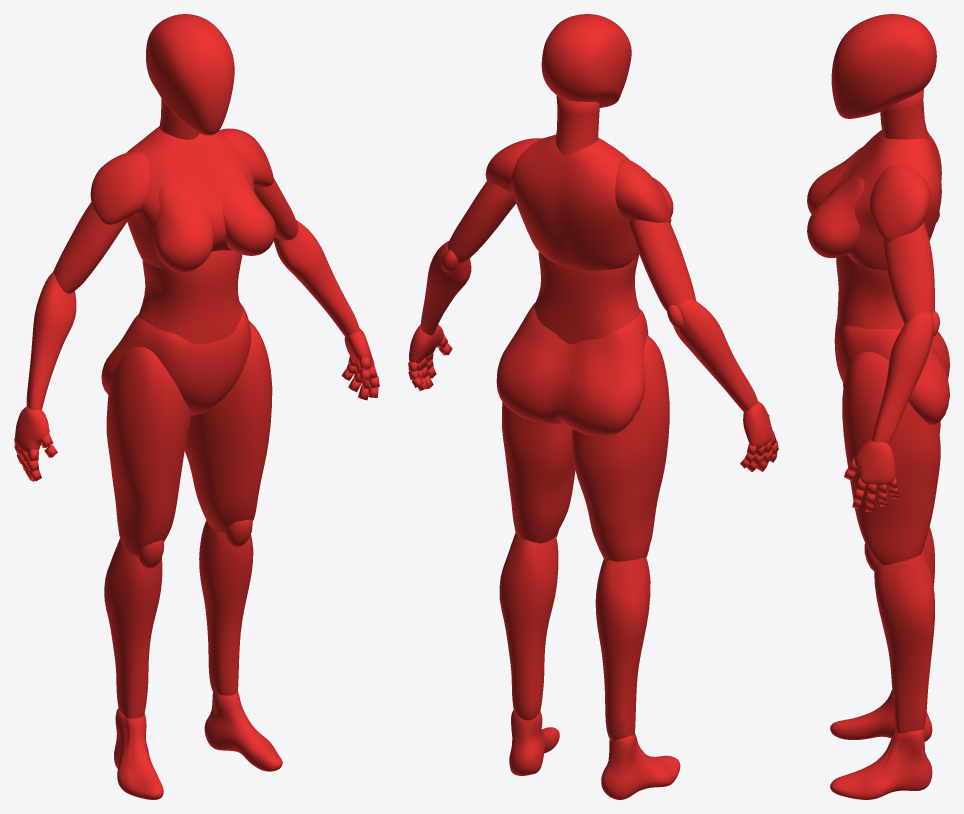
3 views of the same model, side by side, from view 1: azimuth 30°, elevation 25°; view 2: azimuth 150°, elevation 25°; view 3: azimuth 270°, elevation 25° (orthographic).
Visible parts, largest first — view 1: F_Upper_Leg_R, F_Upper_Leg_L, F_Head, F_Chest, F_Stomach, F_Hips, F_Lower_Leg_R, F_Lower_Leg_L, F_Breast_R, F_Lower_Arm_R, F_Lower_Arm_L, F_Breast_L (+9 smaller); view 2: F_Hips, F_Chest, F_Upper_Leg_R, F_Lower_Leg_L, F_Upper_Leg_L, F_Lower_Leg_R, F_Stomach, F_Head, F_Lower_Arm_R, F_Upper_Arm_R, F_Feet_R, F_Upper_Arm_L (+7 smaller); view 3: F_Upper_Leg_L, F_Head, F_Lower_Leg_L, F_Chest, F_Hips, F_Feet_L, F_Lower_Arm_L, F_Stomach, F_Upper_Arm_L, F_Shoulder_L, F_Breast_L, F_Feet_R (+4 smaller).
Boxes of the visible parts, x1=… form: F_Upper_Leg_R: x1=106, y1=346, x2=191, y2=555; F_Upper_Leg_L: x1=184, y1=321, x2=272, y2=532; F_Head: x1=146, y1=14, x2=234, y2=135; F_Chest: x1=126, y1=126, x2=254, y2=268; F_Stomach: x1=138, y1=250, x2=242, y2=344; F_Hips: x1=101, y1=303, x2=251, y2=415; F_Lower_Leg_R: x1=104, y1=539, x2=162, y2=718; F_Lower_Leg_L: x1=199, y1=520, x2=253, y2=695; F_Breast_R: x1=152, y1=183, x2=213, y2=272; F_Lower_Arm_R: x1=26, y1=272, x2=76, y2=409; F_Lower_Arm_L: x1=274, y1=220, x2=359, y2=337; F_Breast_L: x1=222, y1=166, x2=275, y2=255; F_Hips: x1=496, y1=302, x2=648, y2=436; F_Chest: x1=511, y1=134, x2=638, y2=270; F_Upper_Leg_R: x1=572, y1=335, x2=669, y2=561; F_Lower_Leg_L: x1=499, y1=532, x2=558, y2=720; F_Upper_Leg_L: x1=502, y1=402, x2=575, y2=543; F_Lower_Leg_R: x1=595, y1=556, x2=650, y2=740; F_Stomach: x1=534, y1=251, x2=639, y2=344; F_Head: x1=541, y1=14, x2=631, y2=107; F_Lower_Arm_R: x1=673, y1=299, x2=758, y2=411; F_Upper_Arm_R: x1=628, y1=219, x2=695, y2=311; F_Feet_R: x1=601, y1=733, x2=680, y2=799; F_Upper_Arm_L: x1=447, y1=181, x2=515, y2=263; F_Upper_Leg_L: x1=842, y1=351, x2=940, y2=564; F_Head: x1=831, y1=14, x2=936, y2=118; F_Lower_Leg_L: x1=874, y1=551, x2=934, y2=733; F_Chest: x1=828, y1=130, x2=941, y2=270; F_Hips: x1=834, y1=319, x2=949, y2=424; F_Feet_L: x1=830, y1=729, x2=932, y2=799; F_Lower_Arm_L: x1=872, y1=312, x2=933, y2=443; F_Stomach: x1=836, y1=254, x2=904, y2=329; F_Upper_Arm_L: x1=883, y1=221, x2=934, y2=323; F_Shoulder_L: x1=869, y1=164, x2=930, y2=241; F_Breast_L: x1=807, y1=176, x2=864, y2=257; F_Feet_R: x1=830, y1=689, x2=932, y2=741.
Bounding box in the file's own units: 5.27 × 10.71 × 1.86.
